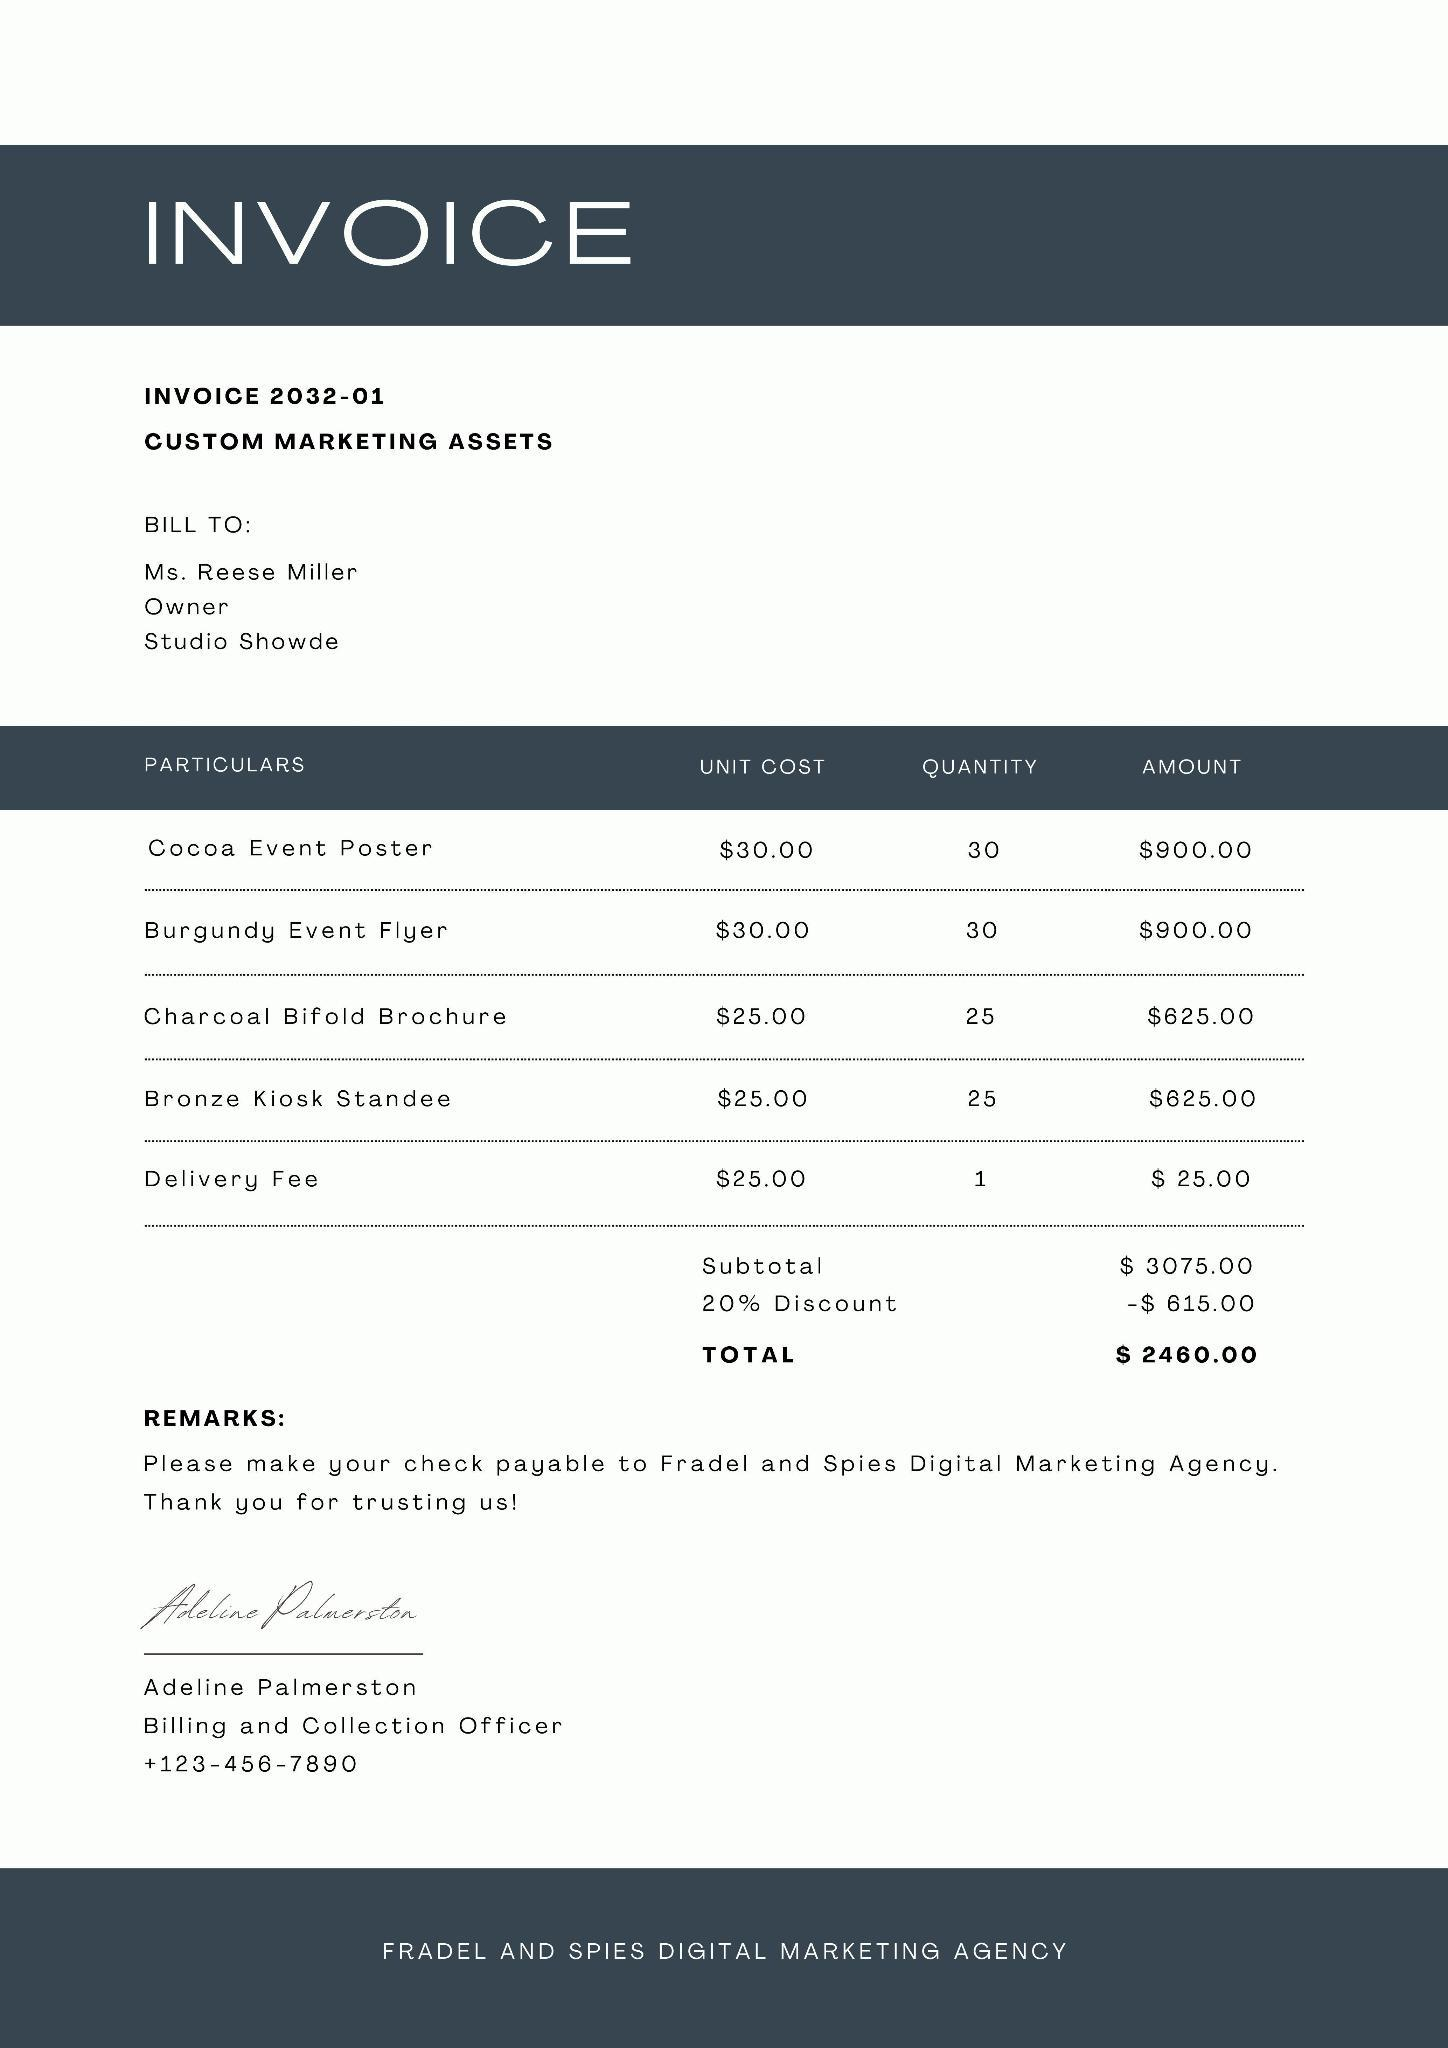ROI: (92, 722, 1387, 1222), (114, 1395, 1274, 1539), (685, 1244, 1301, 1373), (130, 168, 655, 287), (132, 1667, 577, 1800), (143, 368, 567, 475), (138, 500, 384, 672)
